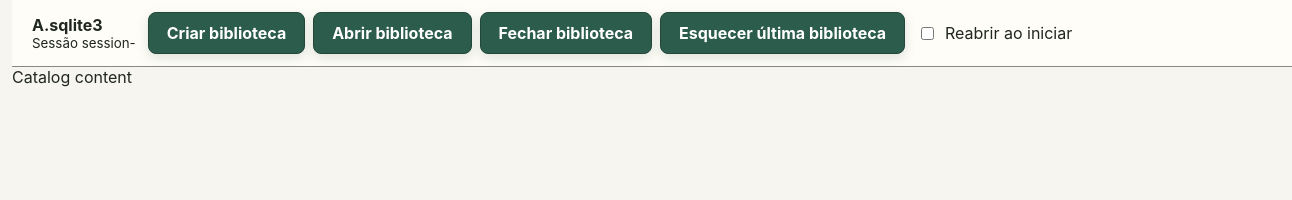
reports preference failure while keeping the active catalog and clears it on close
Click the checkbox labelled "Reabrir ao iniciar".
click(928, 33)  # box [921,26,934,40]
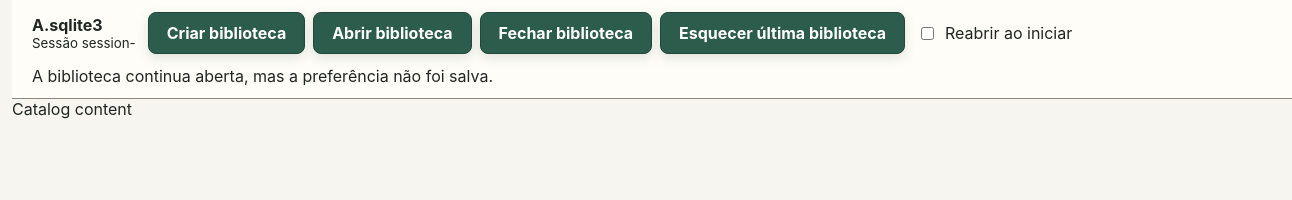
Expected: the text "Catalog content" is shown, [12,99,132,119]
Expected: the text "preferência não foi salva" is shown, [32,66,493,86]
Click the button "Fechar biblioteca".
click(566, 33)  # box [480,12,652,54]
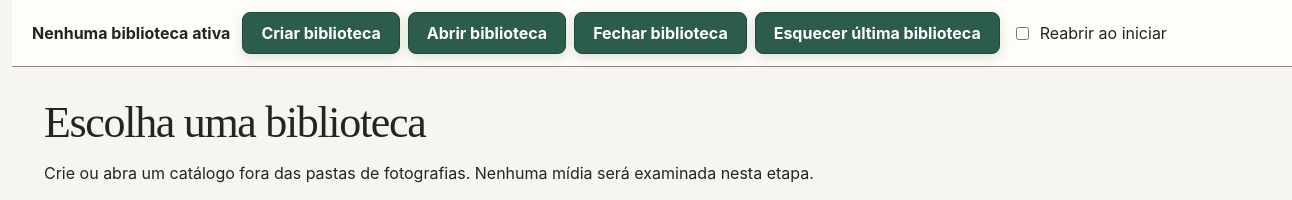
Expected: the text "Catalog content" is gone
